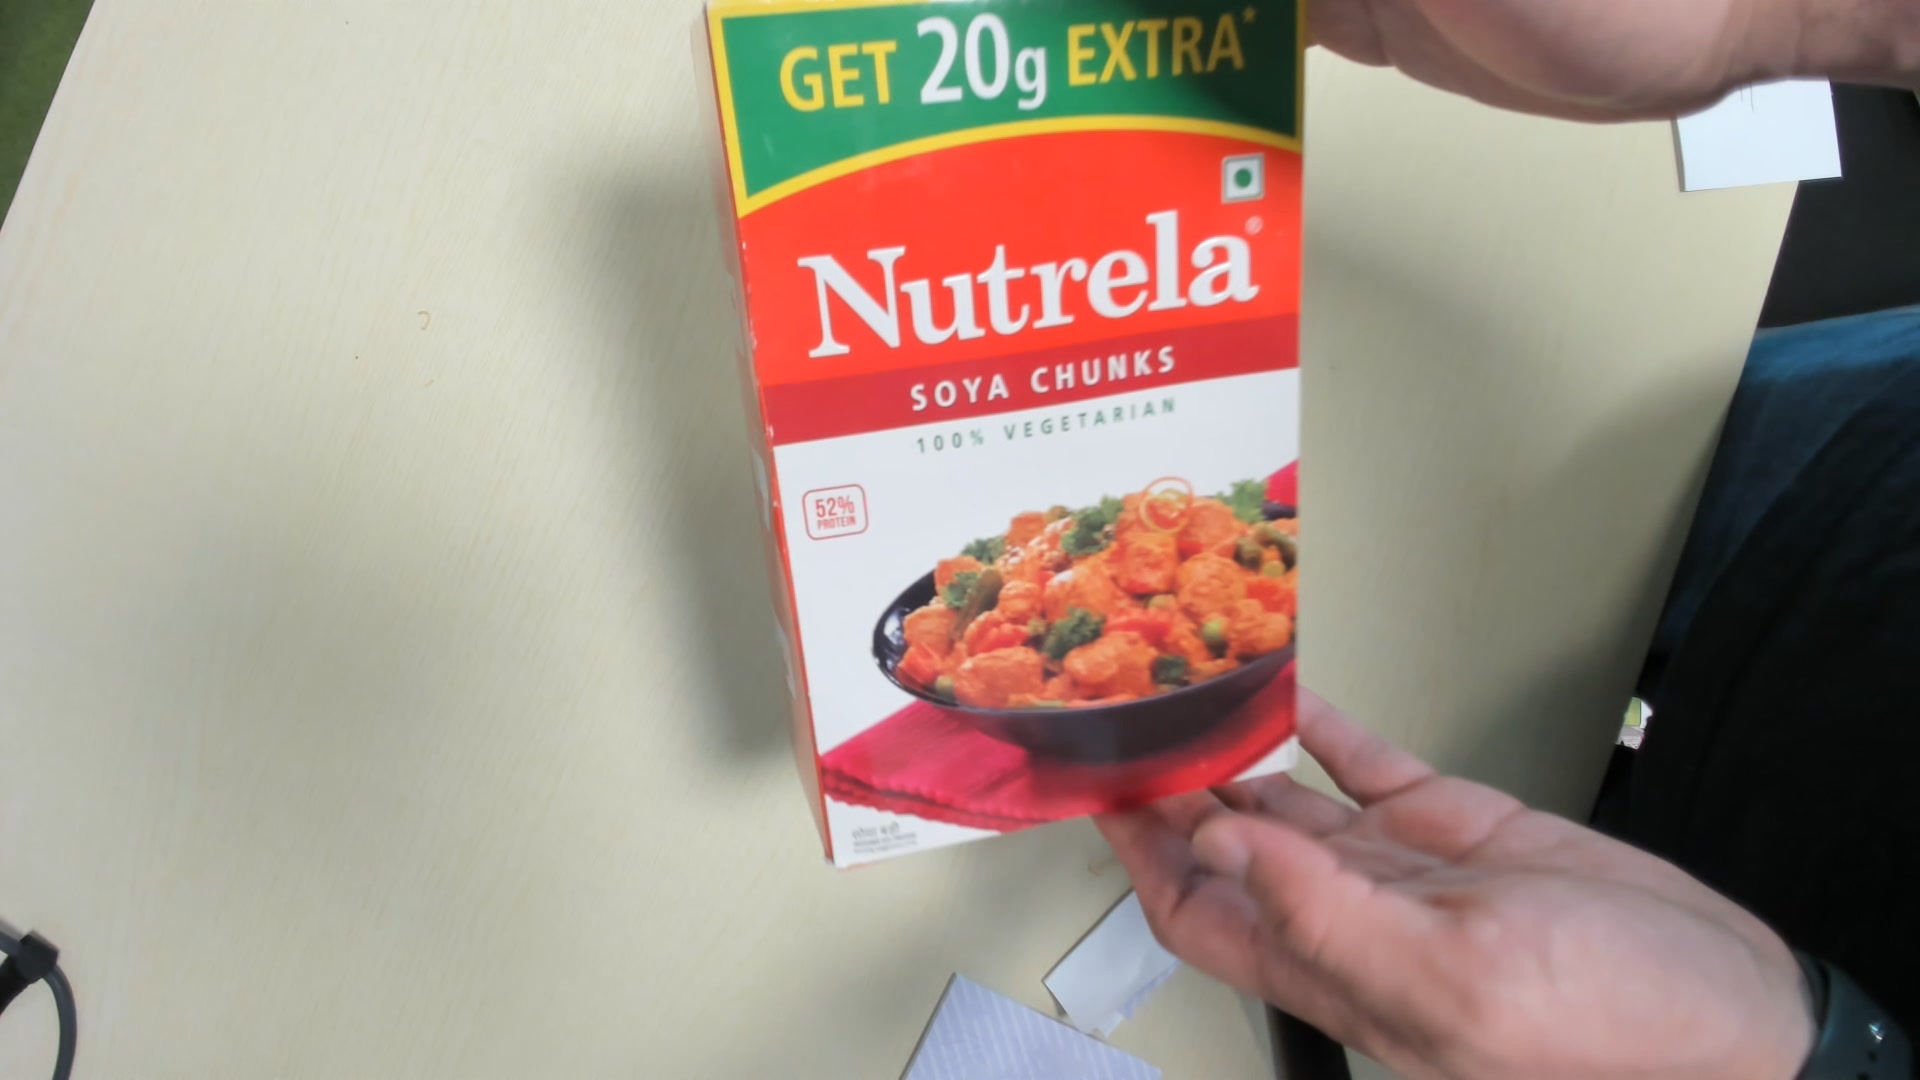InstantMeals_200_299g_NonHalal_NonHealthy: (694, 7, 1336, 858)
